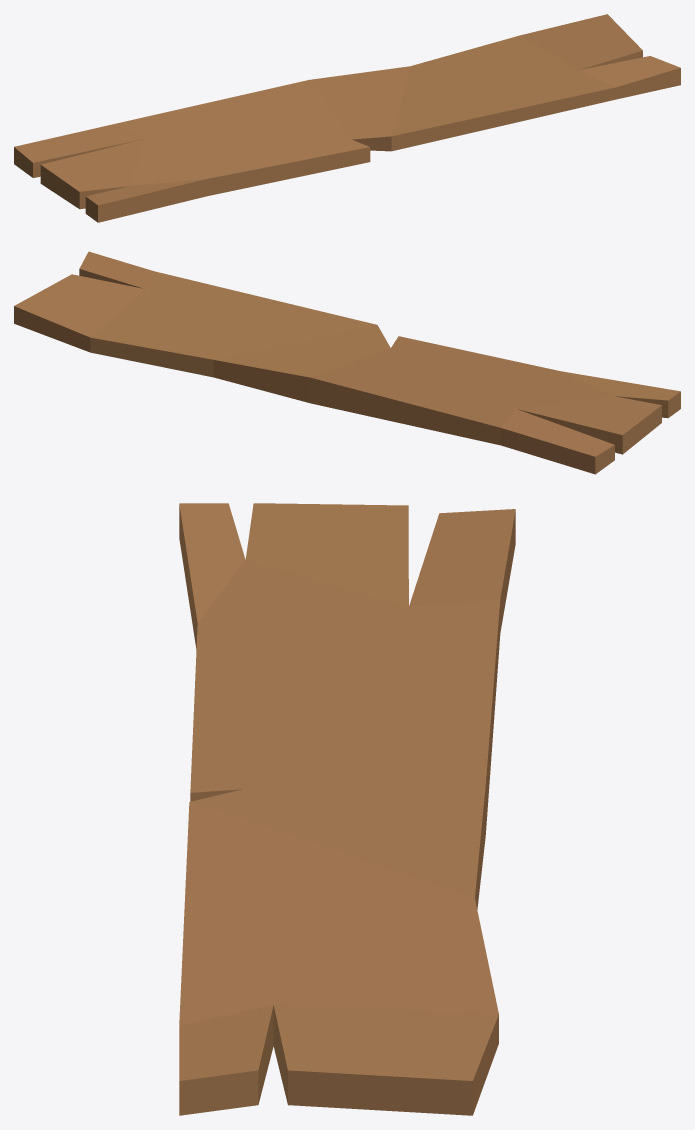
File: plank02.fbx
3 renders of one model, top to bottom at view 1: azimuth 30°, elevation 25°; view 2: azimuth 150°, elevation 25°; view 3: azimuth 270°, elevation 25°, orthographic. The views are drawn at different scales.
Parts seen in each view (by area): view 1: Plane.003; view 2: Plane.003; view 3: Plane.003.
Boxes of the visible parts, x1=… form: Plane.003: x1=14, y1=14, x2=680, y2=222; Plane.003: x1=14, y1=251, x2=680, y2=474; Plane.003: x1=179, y1=503, x2=515, y2=1115.
Size of the model in its own units: 92.16 by 3.99 by 23.04.
